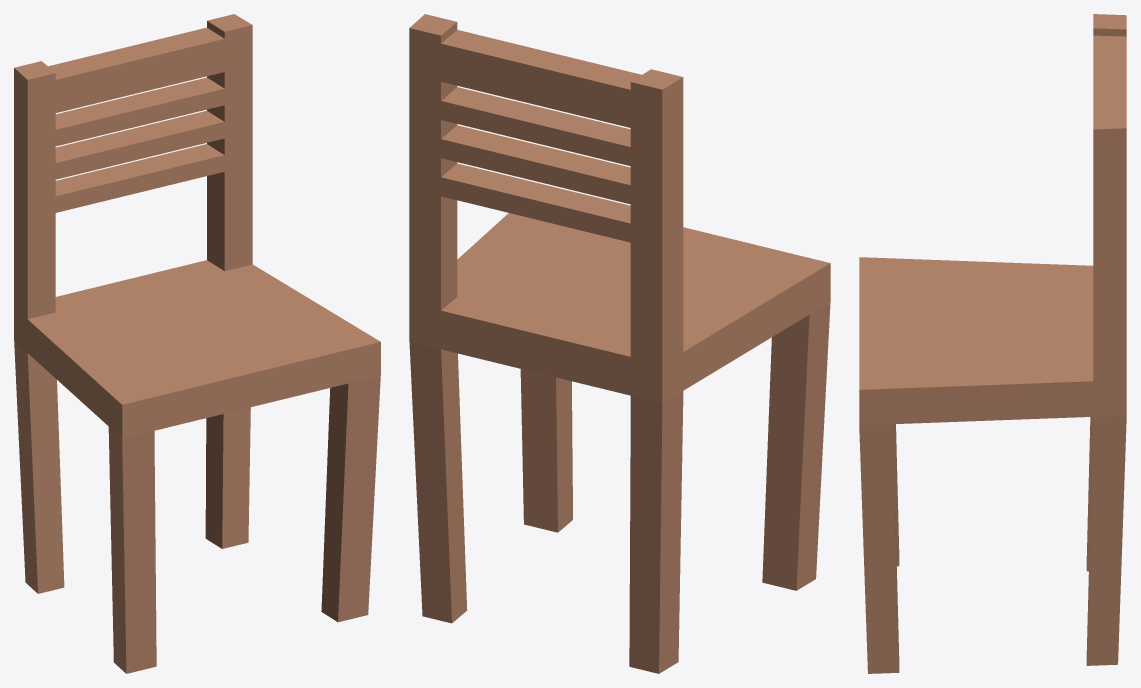
Rendered from Chair.fbx.
3 renders of one model, left to right at view 1: azimuth 30°, elevation 25°; view 2: azimuth 150°, elevation 25°; view 3: azimuth 270°, elevation 25°, orthographic. The views are drawn at different scales.
Visible parts, largest first — view 1: Chair.003; view 2: Chair.003; view 3: Chair.003.
Part boxes in pixels (bbox=[...]): Chair.003: bbox=[14, 14, 380, 673]; Chair.003: bbox=[409, 14, 830, 673]; Chair.003: bbox=[859, 14, 1126, 673].
Size of the model in its own units: 97.53 by 185 by 83.06.
